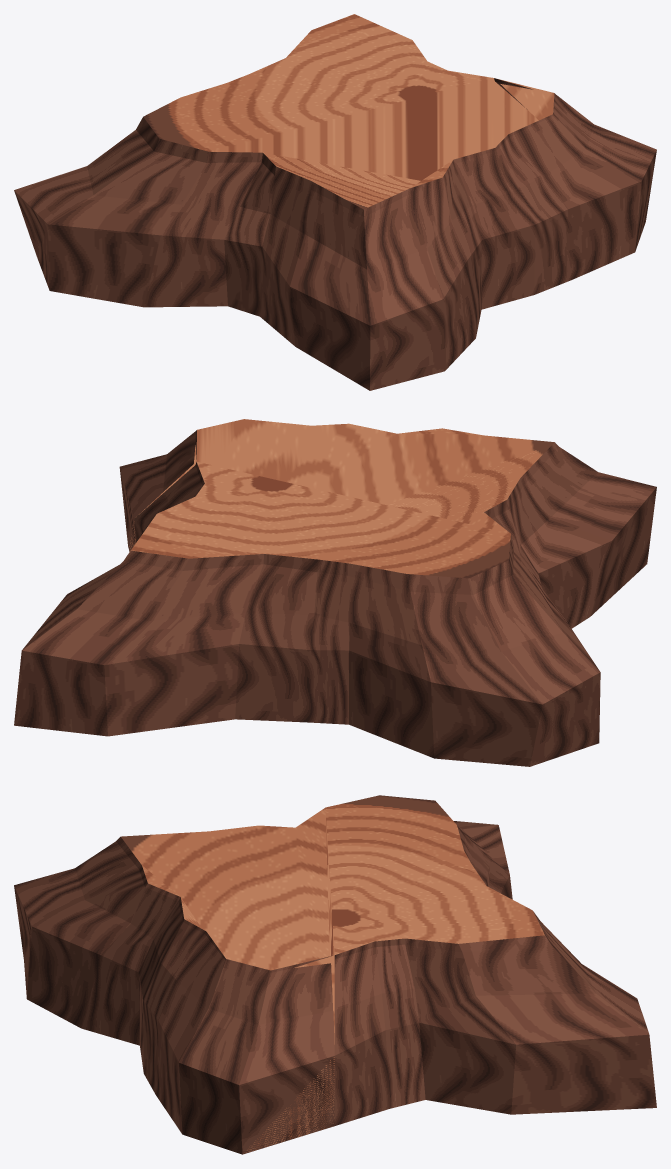
Rendered from environment_redwood4_stump_v2.fbx.
3 views of the same model, one above another, from view 1: azimuth 30°, elevation 25°; view 2: azimuth 150°, elevation 25°; view 3: azimuth 270°, elevation 25° (orthographic). The views are drawn at different scales.
Visible parts, largest first — view 1: environment_redwood4_stump_v2; view 2: environment_redwood4_stump_v2; view 3: environment_redwood4_stump_v2.
Boxes of the visible parts, bbox=[...] form: environment_redwood4_stump_v2: bbox=[14, 14, 656, 390]; environment_redwood4_stump_v2: bbox=[14, 419, 656, 766]; environment_redwood4_stump_v2: bbox=[14, 795, 656, 1154].
Size of the model in its own units: 803 by 200 by 808.
